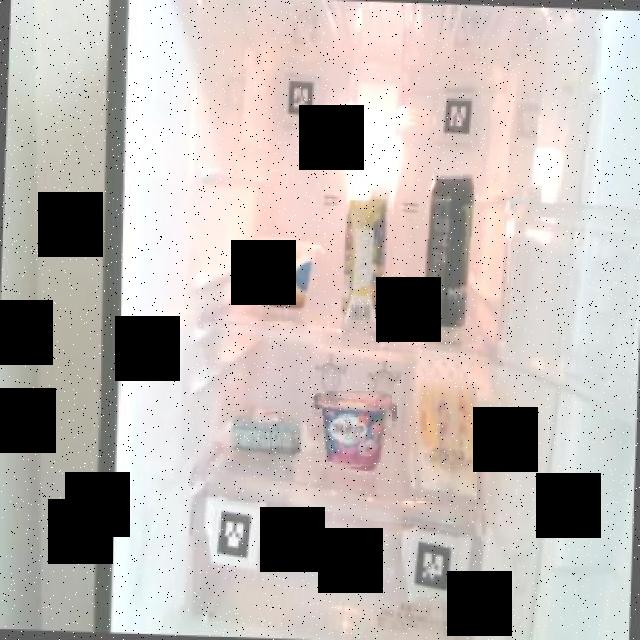energy_drink: (422, 172, 475, 332)
pudding: (252, 231, 318, 309)
rice_ball: (222, 406, 307, 462)
sandwich: (405, 351, 477, 503)
smoothie: (340, 180, 392, 329)
yogurt: (312, 391, 392, 471)
